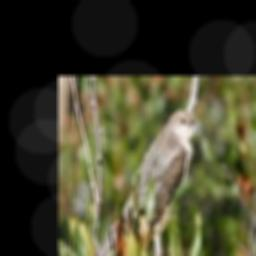Cuckoo: (86, 109, 203, 256)
